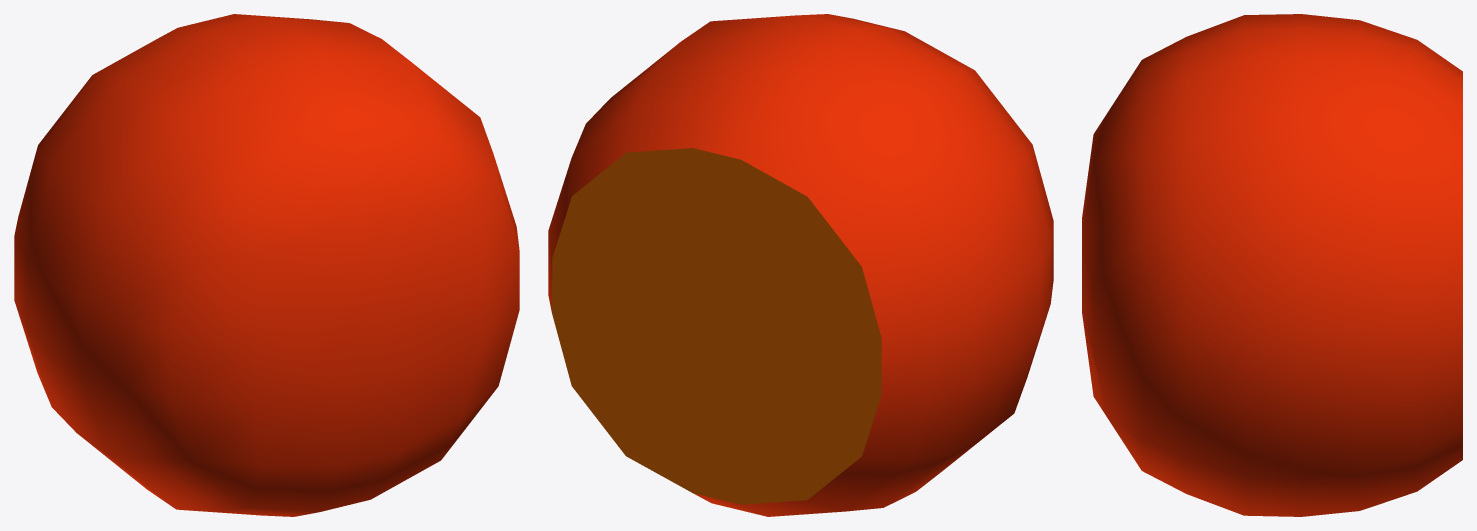
The model's file is mesh_tomato_stage01.fbx.
3 views of the same model, side by side, from view 1: azimuth 30°, elevation 25°; view 2: azimuth 150°, elevation 25°; view 3: azimuth 270°, elevation 25° (orthographic).
Parts seen in each view (by area): view 1: mesh_tomato_stage01; view 2: mesh_tomato_stage01; view 3: mesh_tomato_stage01.
Part boxes in pixels (bbox=[...]): mesh_tomato_stage01: bbox=[14, 14, 519, 516]; mesh_tomato_stage01: bbox=[548, 14, 1053, 516]; mesh_tomato_stage01: bbox=[1082, 14, 1462, 516].
Bounding box in the file's own units: 0.1904 × 0.1904 × 0.1484.
